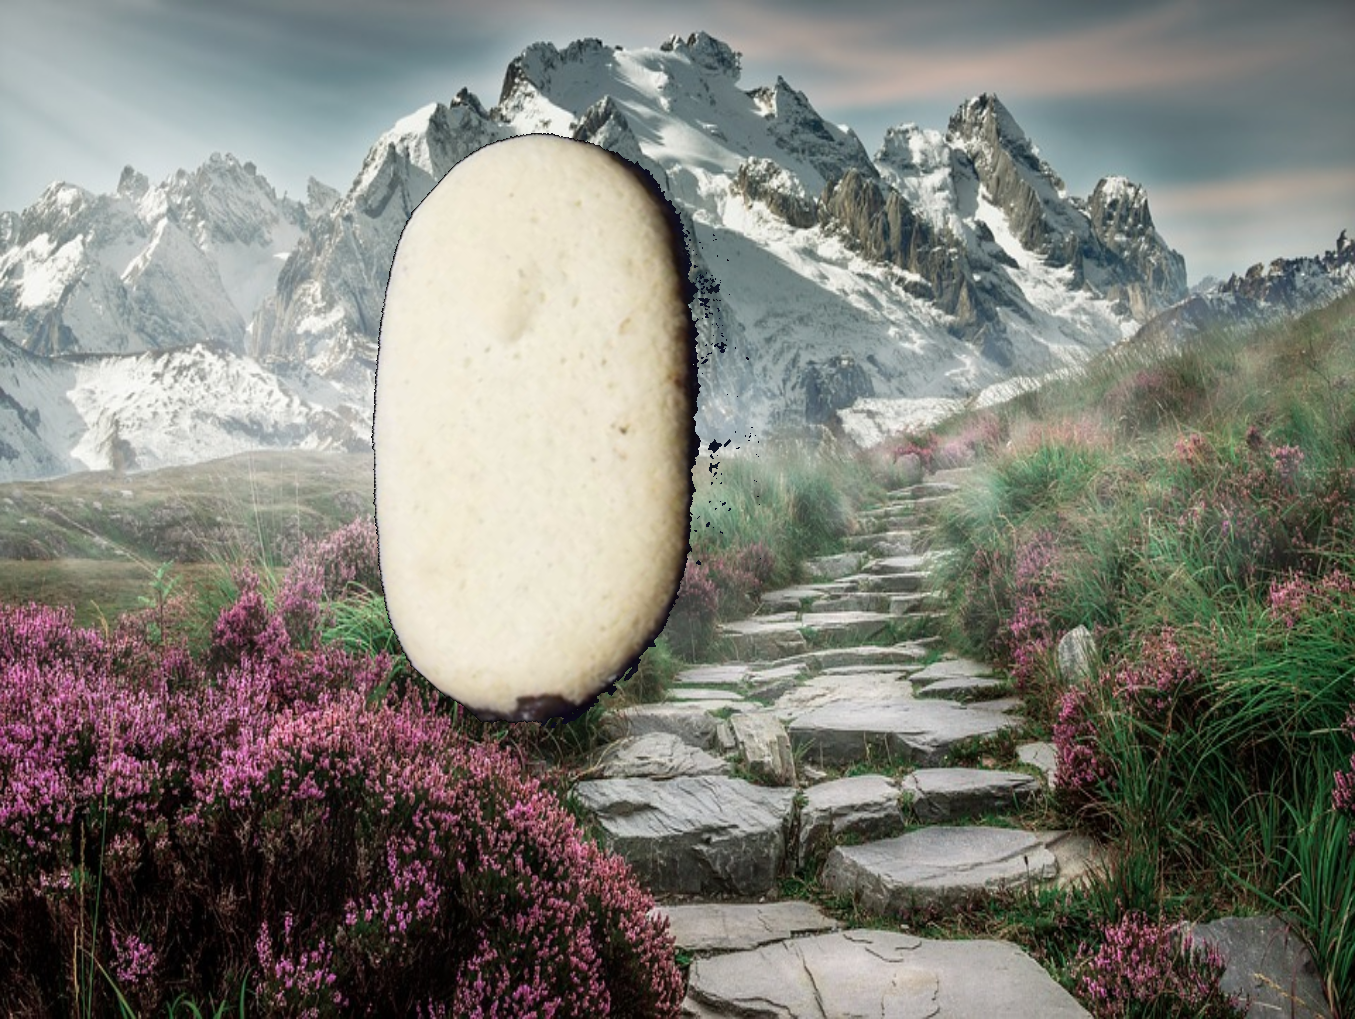test: (181, 65, 922, 807)
